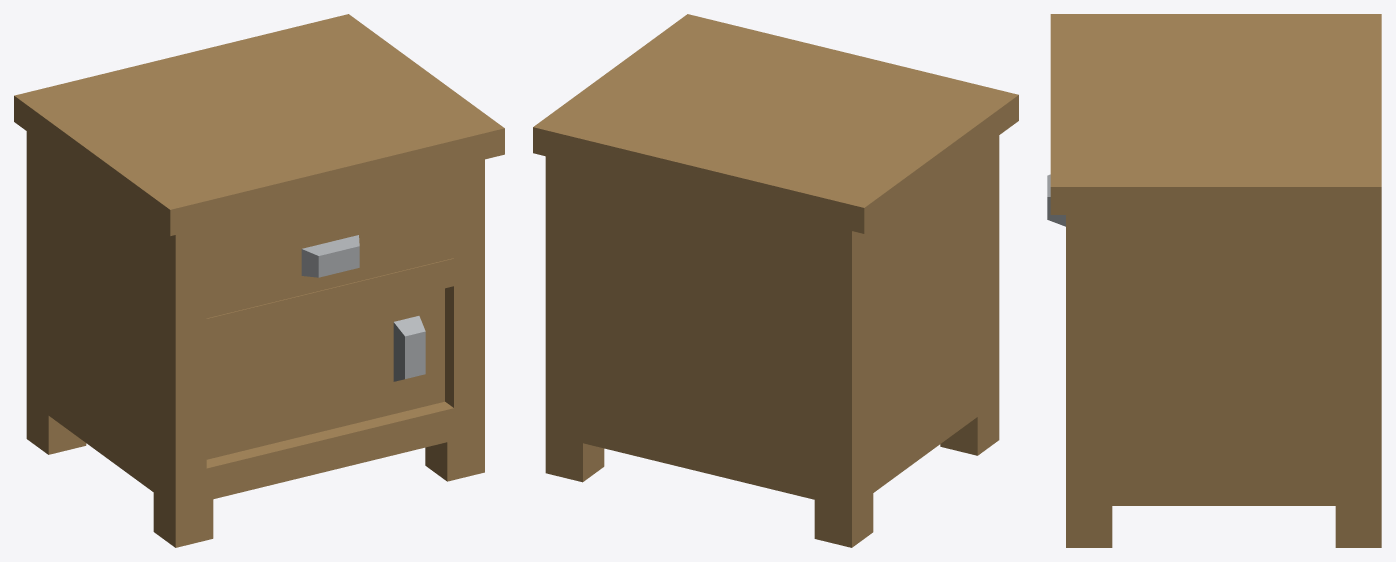
Rendered from bedside_cabinet.glb.
The picture shows the model from 3 angles, left to right: view 1: azimuth 30°, elevation 25°; view 2: azimuth 150°, elevation 25°; view 3: azimuth 270°, elevation 25°; orthographic projection. The views are drawn at different scales.
Parts seen in each view (by area): view 1: bedside_cabinet; view 2: bedside_cabinet; view 3: bedside_cabinet.
Part boxes in pixels (x1,y1,x2,y2): bedside_cabinet: [14, 14, 504, 547]; bedside_cabinet: [533, 14, 1018, 547]; bedside_cabinet: [1047, 14, 1381, 547].
Bounding box in the file's own units: 0.532 × 0.5264 × 0.4346.
